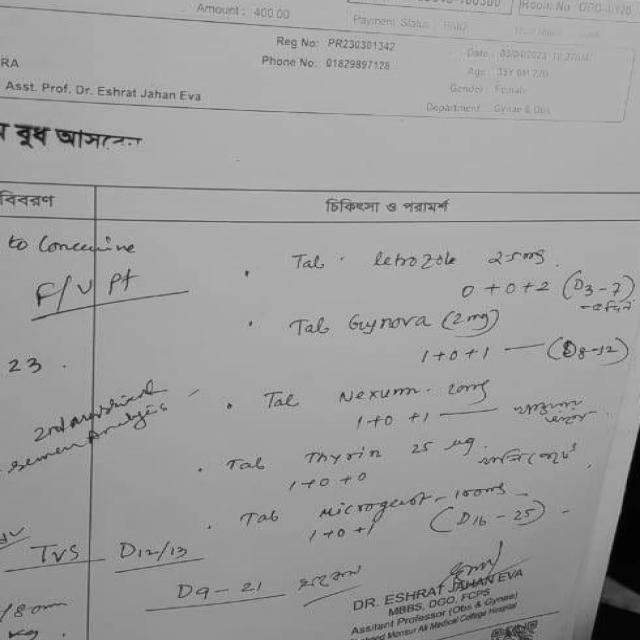medicine: (331, 304, 439, 338), (315, 490, 432, 519), (362, 243, 451, 276), (298, 444, 390, 471), (336, 381, 430, 407)
